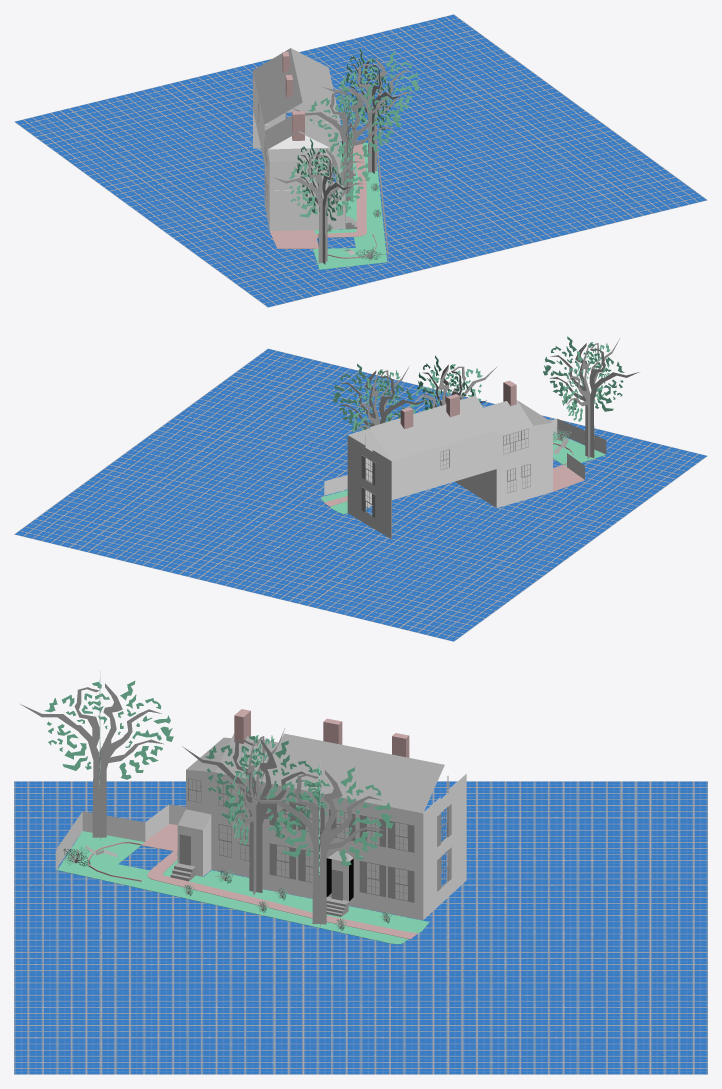
The picture shows the model from 3 angles, top to bottom: view 1: azimuth 30°, elevation 25°; view 2: azimuth 150°, elevation 25°; view 3: azimuth 270°, elevation 25°; orthographic projection. The views are drawn at different scales.
Visible parts, largest first — view 1: 50MeterGrid, Node-Mesh_0, Node-Mesh_2, Node-Mesh_1, Node-Mesh_4; view 2: 50MeterGrid, Node-Mesh_1, Node-Mesh_0, Node-Mesh_2, Node-Mesh_4; view 3: 50MeterGrid, Node-Mesh_0, Node-Mesh_1, Node-Mesh_2, Node-Mesh_4.
Boxes of the visible parts, box(x1,y1,x2,y2) form: 50MeterGrid: box(14, 14, 707, 307); Node-Mesh_0: box(253, 48, 412, 264); Node-Mesh_2: box(288, 47, 419, 269); Node-Mesh_1: box(253, 72, 388, 261); Node-Mesh_4: box(269, 51, 376, 258); 50MeterGrid: box(14, 348, 707, 641); Node-Mesh_1: box(324, 418, 606, 539); Node-Mesh_0: box(338, 338, 639, 518); Node-Mesh_2: box(321, 336, 624, 514); Node-Mesh_4: box(324, 380, 584, 506); 50MeterGrid: box(14, 781, 707, 1074); Node-Mesh_0: box(19, 670, 451, 929); Node-Mesh_1: box(55, 770, 466, 920); Node-Mesh_2: box(44, 679, 429, 944); Node-Mesh_4: box(87, 709, 417, 939).
Size of what is drawn, in the model's own units: 50 by 13.37 by 50.
6 materials, 1 textured.
